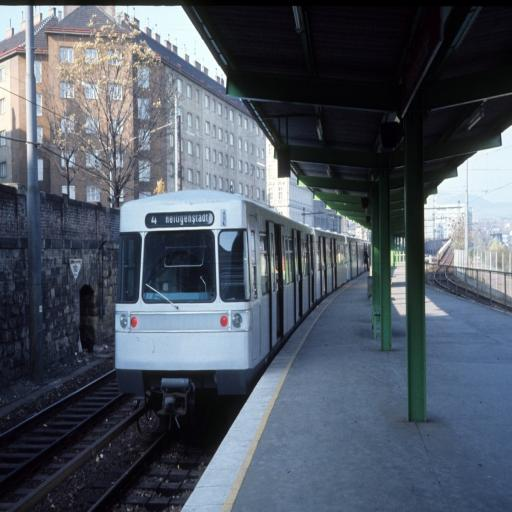Silberpfeil: (114, 188, 370, 398)
